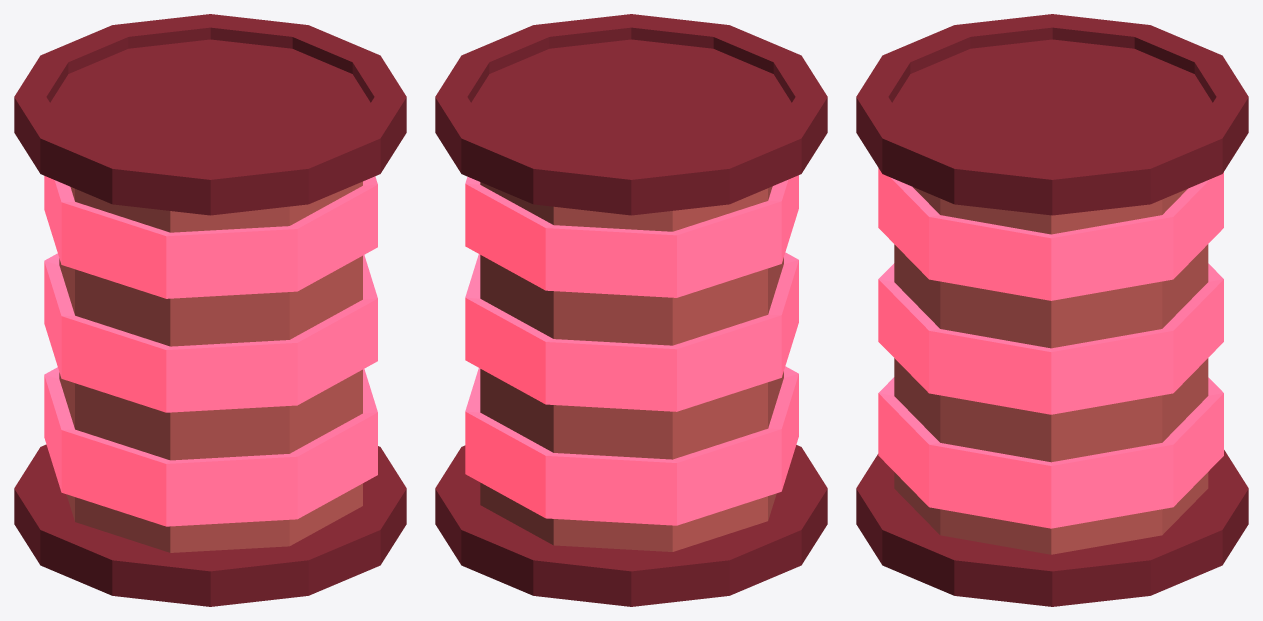
The model's file is box_bomb.glb.
3 renders of one model, left to right at view 1: azimuth 30°, elevation 25°; view 2: azimuth 150°, elevation 25°; view 3: azimuth 270°, elevation 25°, orthographic.
Parts seen in each view (by area): view 1: box_bomb_mesh; view 2: box_bomb_mesh; view 3: box_bomb_mesh.
Boxes of the visible parts, box(x1,y1,x2,y2) form: box_bomb_mesh: box(14, 14, 406, 606); box_bomb_mesh: box(435, 14, 827, 606); box_bomb_mesh: box(856, 14, 1248, 606).
Size of what is drawn, in the model's own units: 1 by 1.2 by 1.
